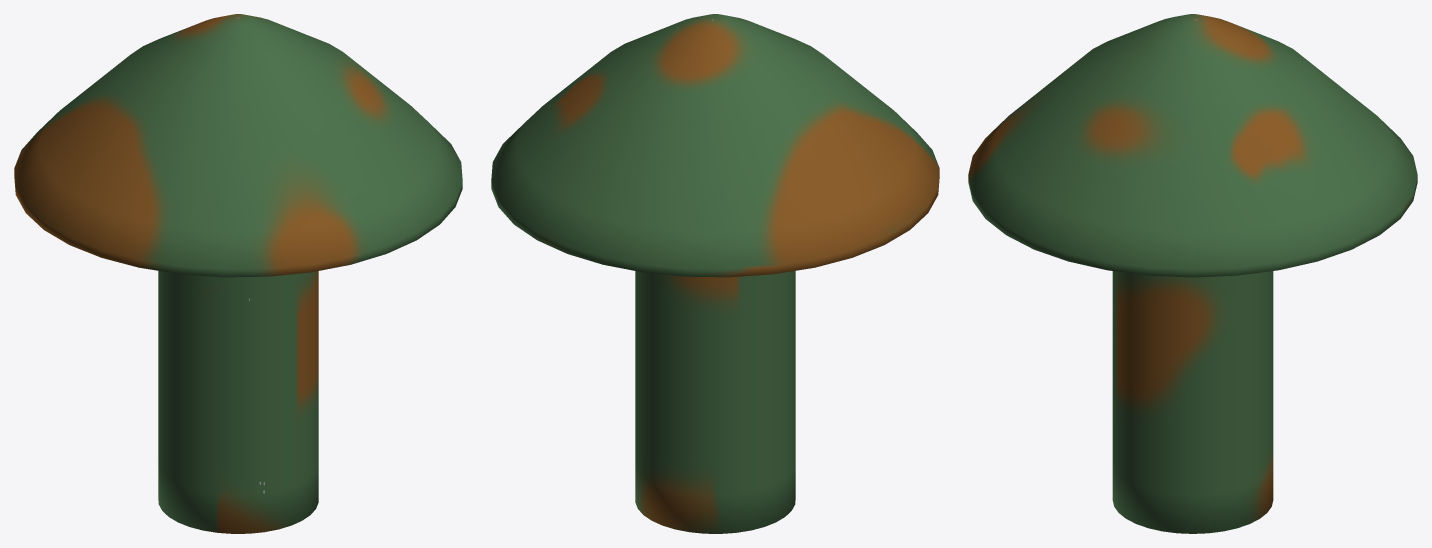
The model's file is ShrinkShroom.glb.
3 renders of one model, left to right at view 1: azimuth 30°, elevation 25°; view 2: azimuth 150°, elevation 25°; view 3: azimuth 270°, elevation 25°, orthographic.
Visible parts, largest first — view 1: Cylinder; view 2: Cylinder; view 3: Cylinder.
Boxes of the visible parts, x1,y1,x2,y2 form: Cylinder: (14,14,462,533); Cylinder: (491,14,939,533); Cylinder: (968,14,1417,533).
Size of the model in its own units: 0.2695 by 0.3181 by 0.2695.
Materials: 1 (1 with a texture image).
